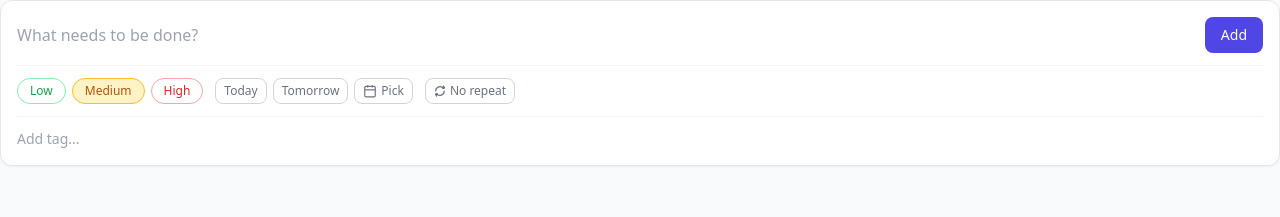
Test: TaskInput — repeat chip label › shows "Daily" after selecting Daily
The width and height of the screenshot is (1280, 217).
Step 1. Click the button with aria-label "set repeat schedule" → (470, 91), box [425, 78, 515, 104]
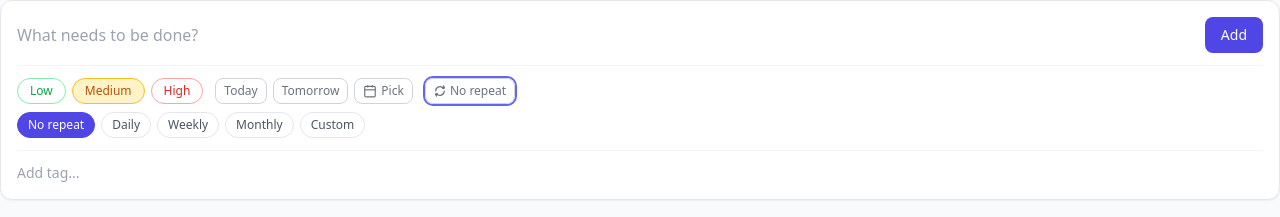
Step 2. Click the button "Daily" → (126, 125), box [101, 112, 151, 138]
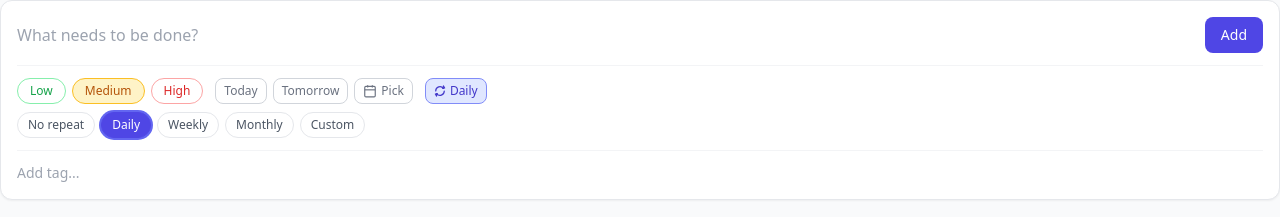
Expected: the button with aria-label "set repeat schedule" reads "Daily", [425, 78, 487, 104]
